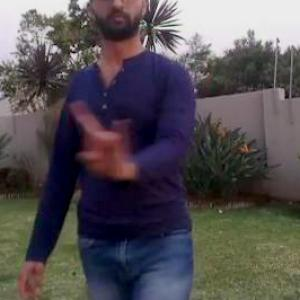takeoff-hand: (72, 102, 140, 180)
